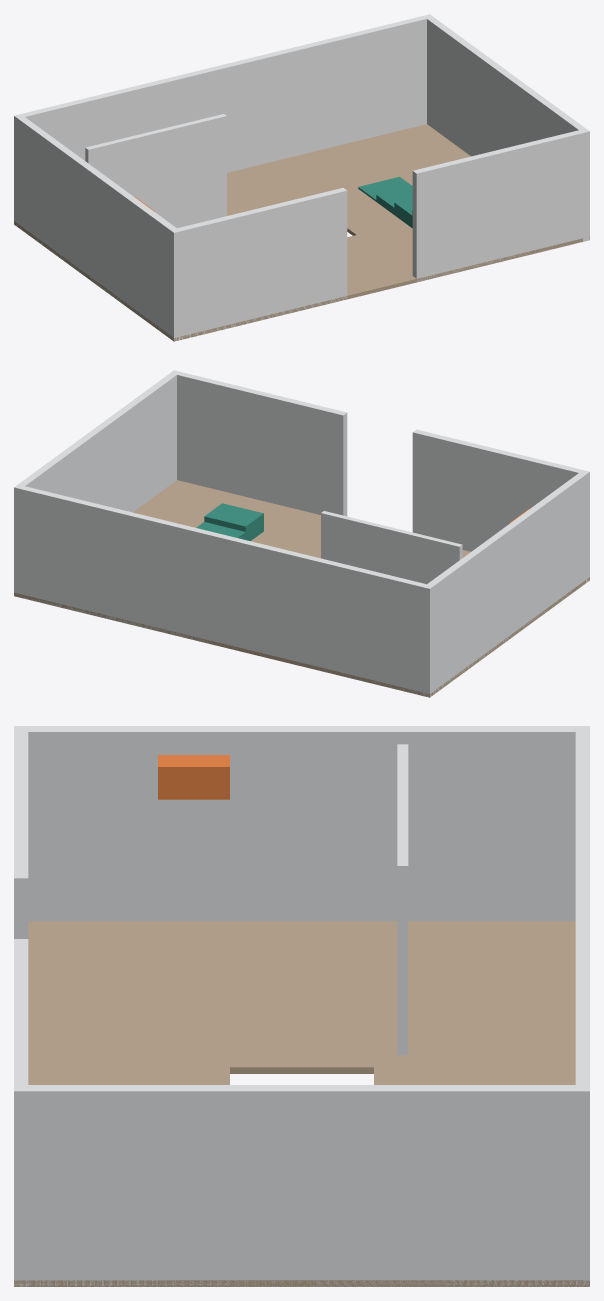
The model's file is courtyard-venue.glb.
3 views of the same model, one above another, from view 1: azimuth 30°, elevation 25°; view 2: azimuth 150°, elevation 25°; view 3: azimuth 270°, elevation 25° (orthographic). The views are drawn at different scales.
Size of the model in its own units: 12 by 3 by 8.
